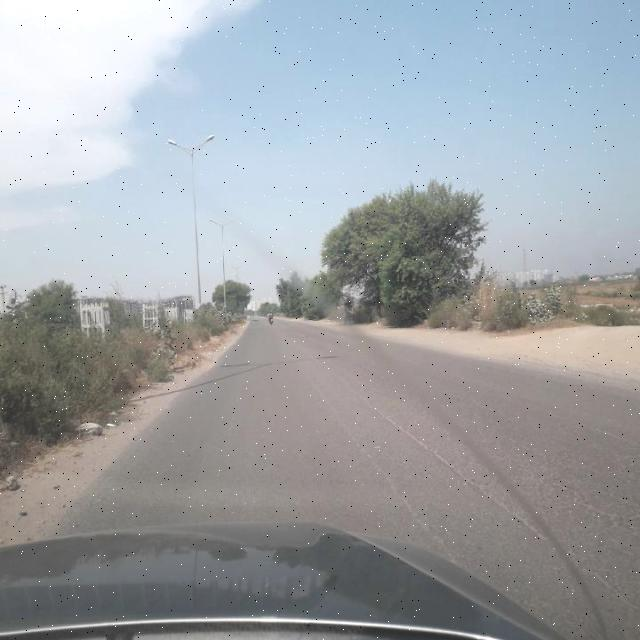D00: (388, 409, 626, 599), (322, 378, 446, 548)
D20: (532, 420, 640, 566)
